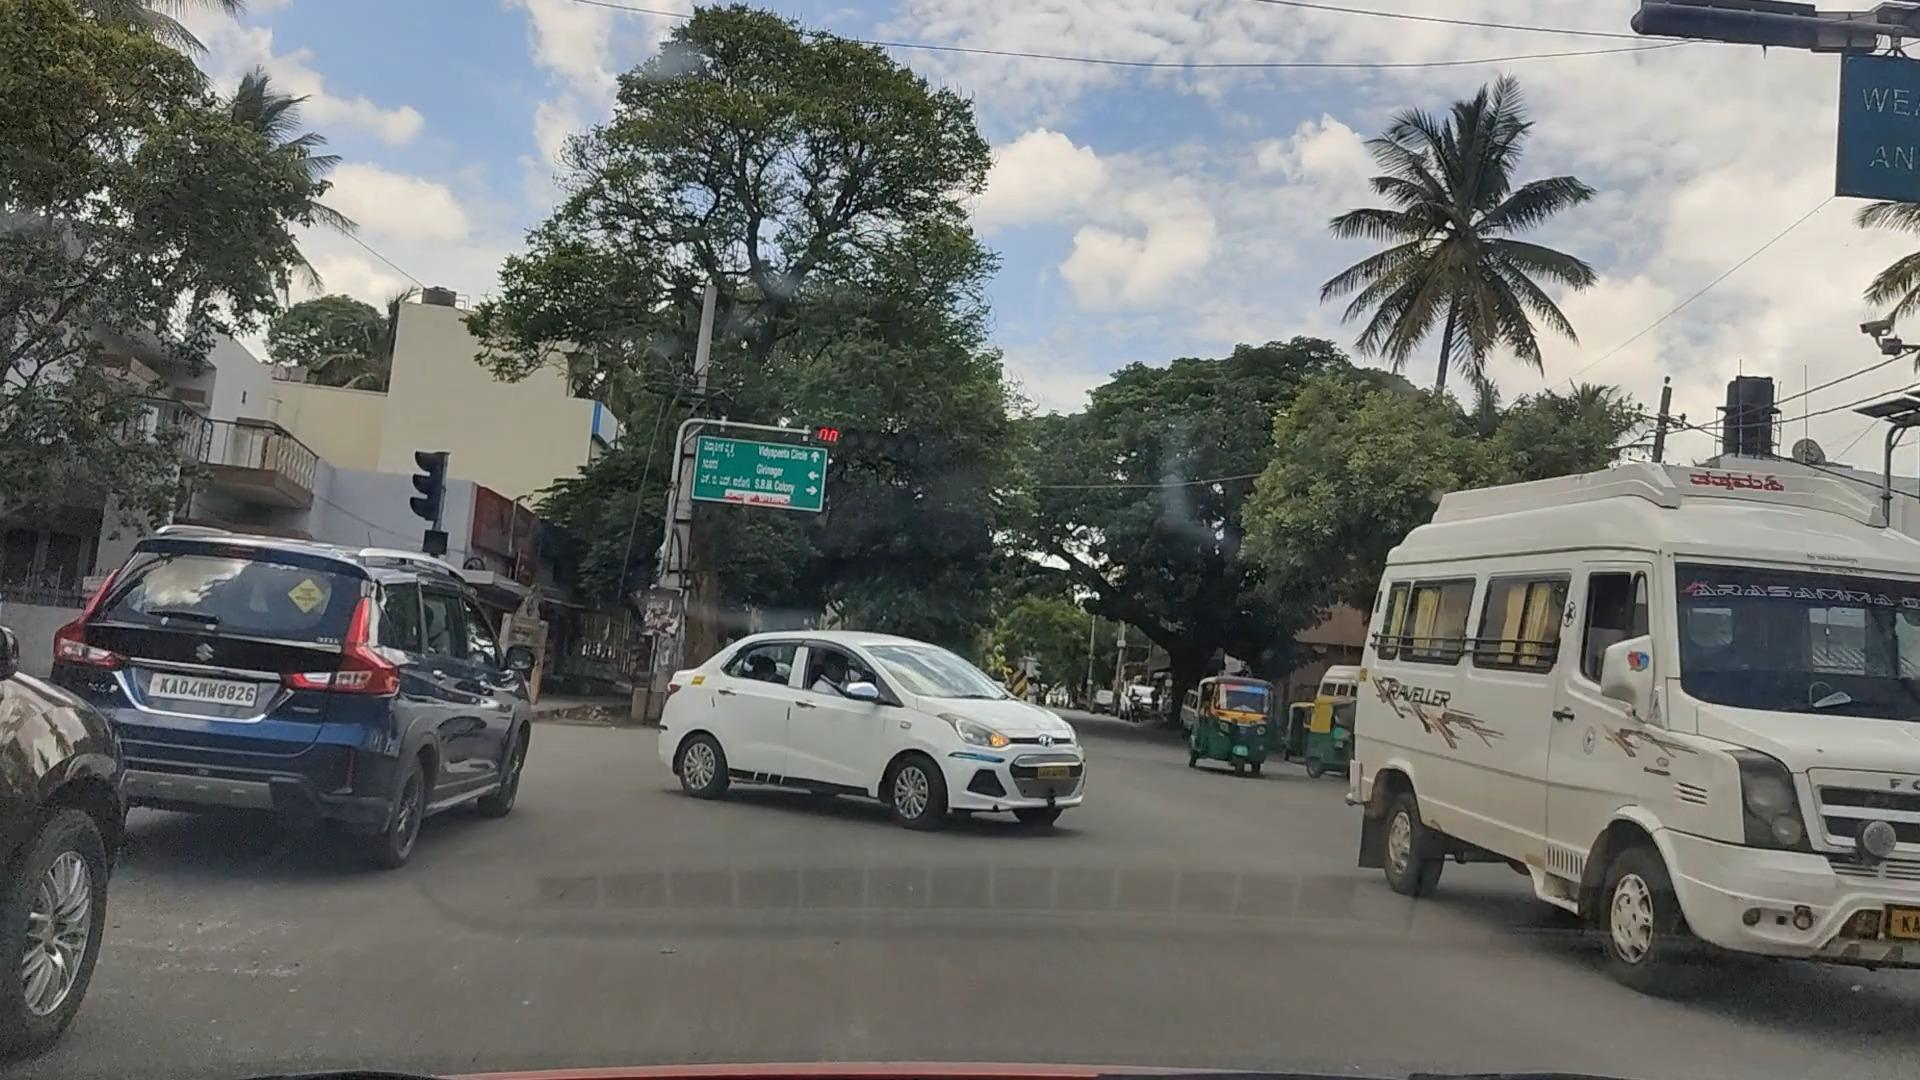LMV: (98, 555, 533, 866), (661, 628, 1100, 827)
